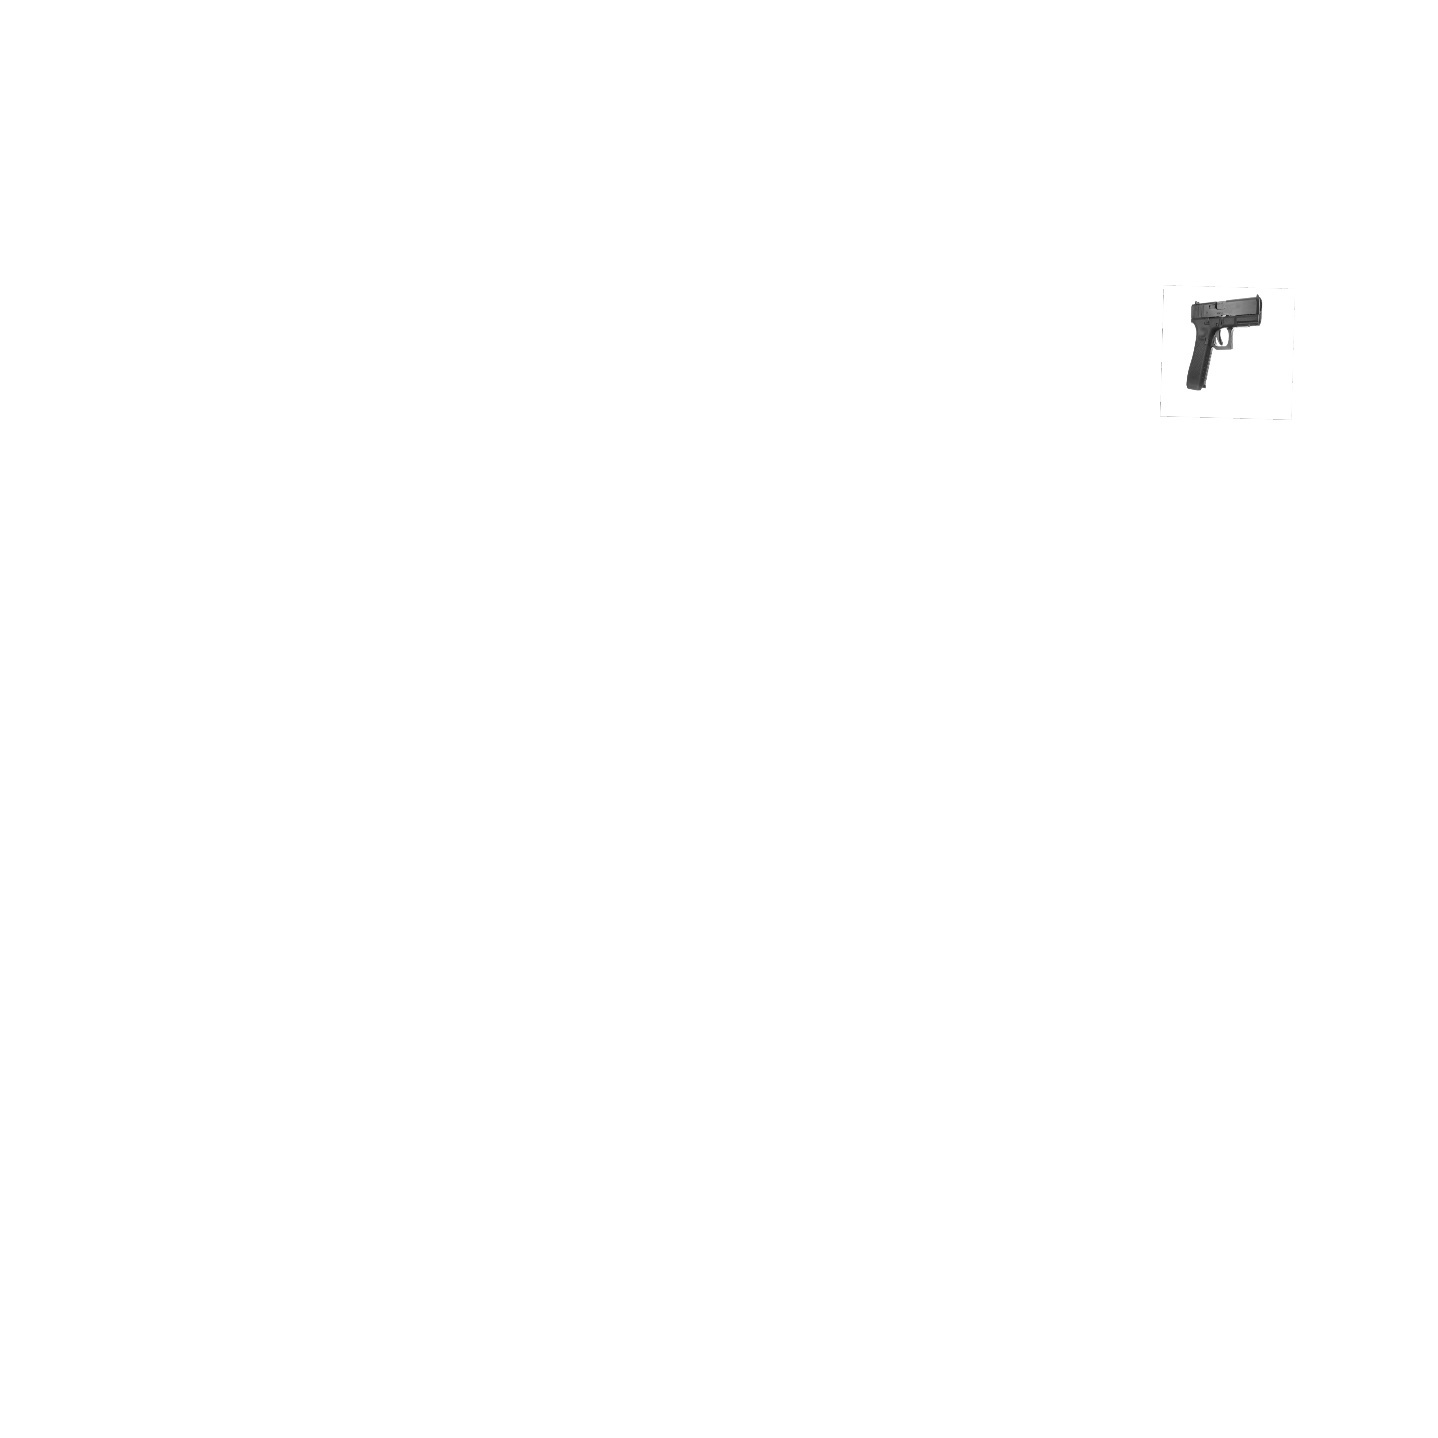gun: (1186, 294, 1263, 391)
